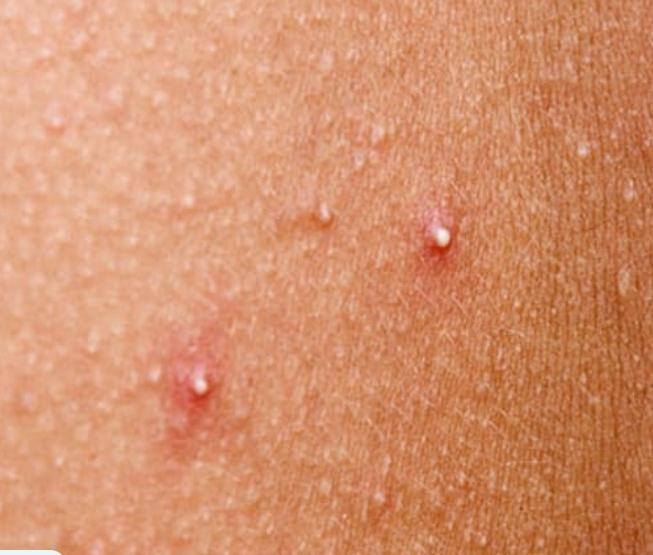purulent: (298, 193, 362, 248), (176, 355, 225, 414), (421, 211, 469, 268)
whitehead: (37, 108, 84, 206), (561, 130, 612, 177), (73, 329, 116, 372), (362, 487, 411, 521), (140, 363, 174, 397)
